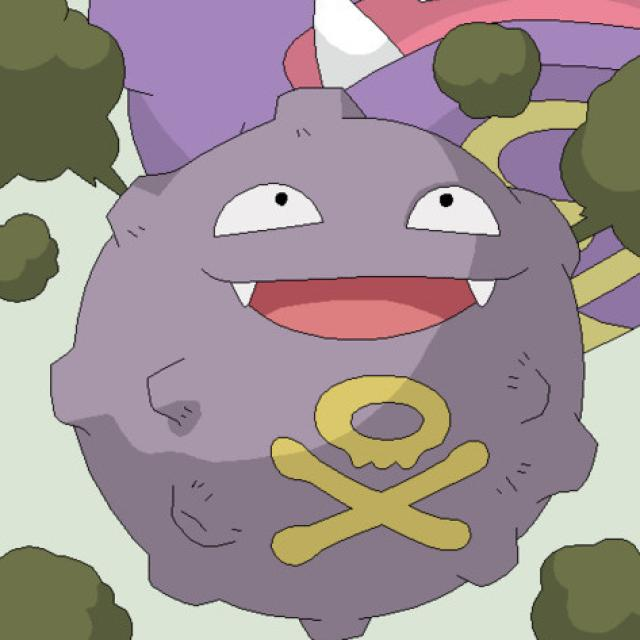Koffing: (78, 110, 573, 613)
